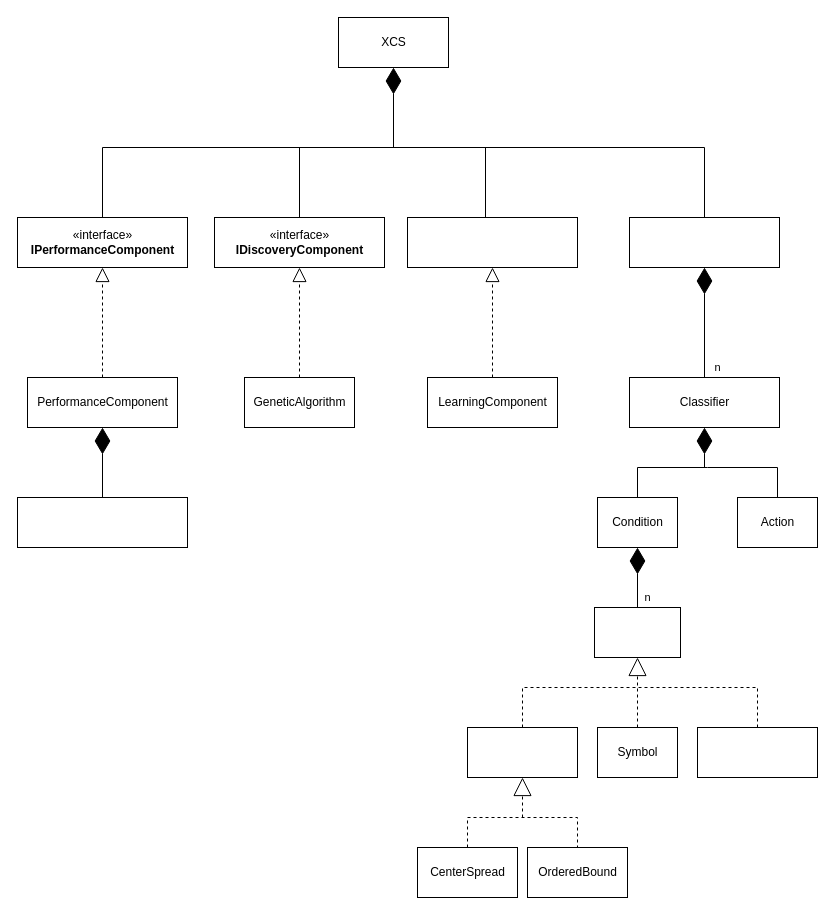
The diagram is 835 pixels wide and 915 high, and some of its shapes have lost their labels. Each missing label, with the centre of its shape:
Population: point 704,242
WildcardSymbol: point 757,752
«interface» IBoundSymbol: point 522,752
«interface» ICoveringComponent: point 102,522
«interface» ILearningComponent: point 492,242
«interface» ISymbol: point 637,632
